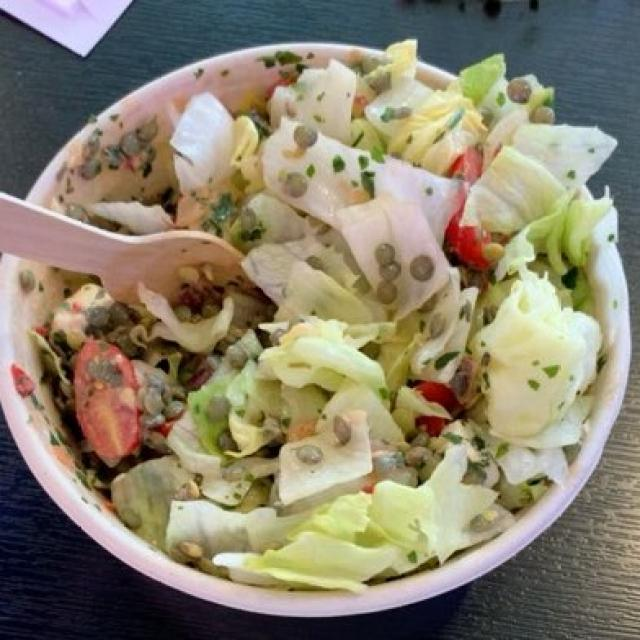salad-leaf-salad-green: (33, 61, 608, 580)
tomato-raw: (50, 152, 491, 468)
